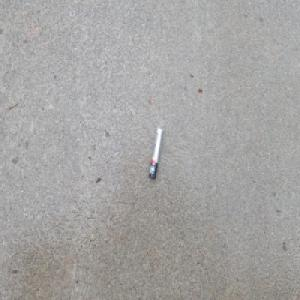Battery: (148, 126, 162, 180)
